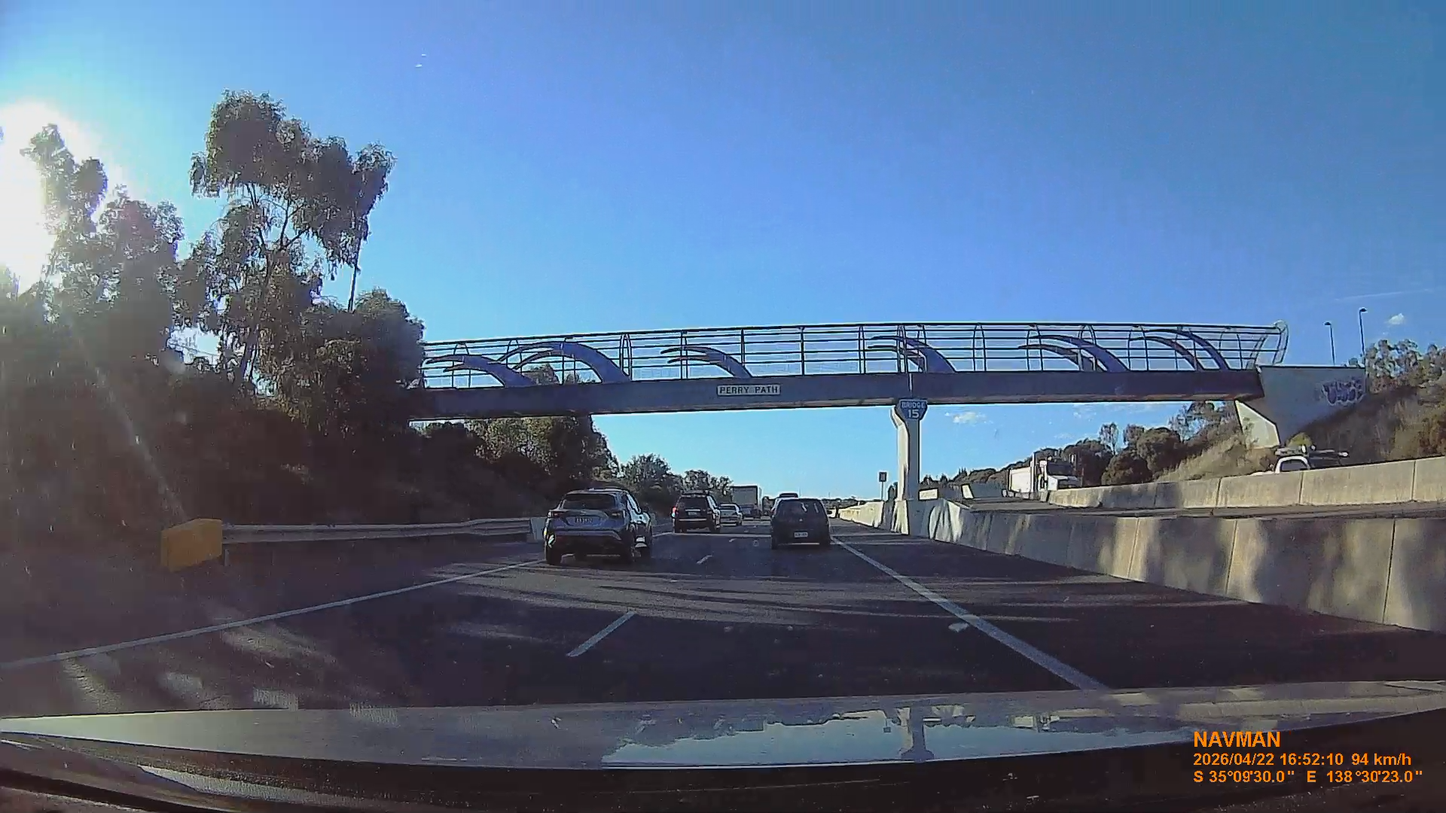road barriers: (911, 458, 1445, 632), (1046, 458, 1445, 511), (223, 518, 541, 571)
